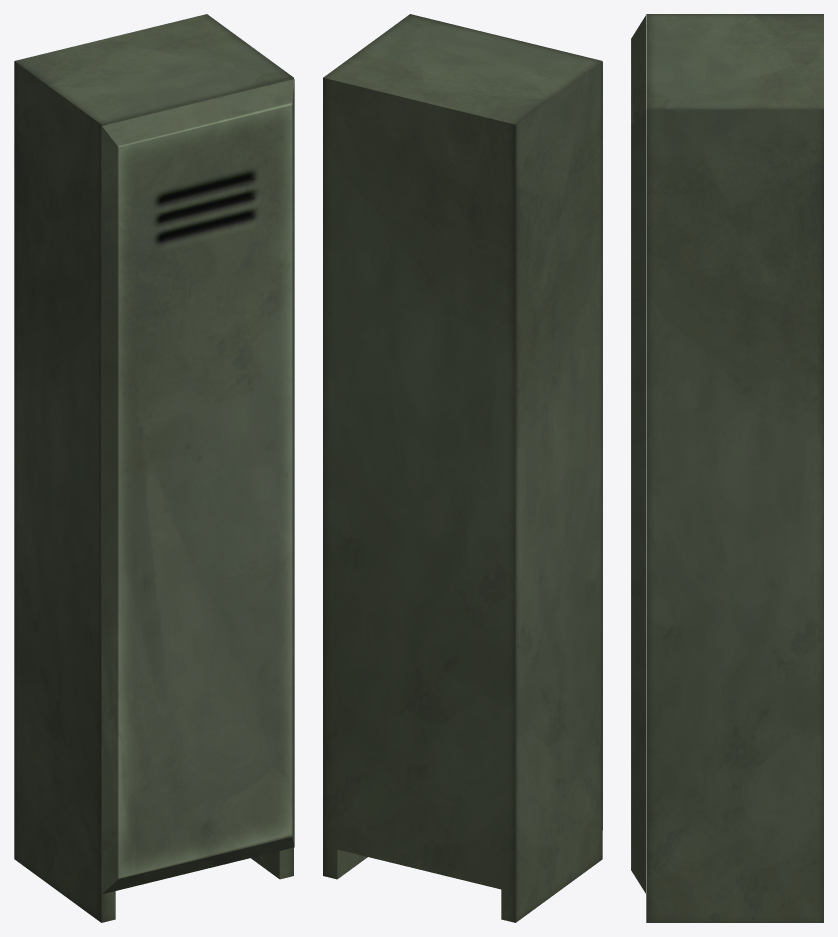
Rendered from Locker.fbx.
3 views of the same model, side by side, from view 1: azimuth 30°, elevation 25°; view 2: azimuth 150°, elevation 25°; view 3: azimuth 270°, elevation 25° (orthographic).
Visible parts, largest first — view 1: LockerDoor, Locker; view 2: Locker, LockerDoor; view 3: Locker, LockerDoor.
Boxes of the visible parts, x1,y1,x2,y2 form: LockerDoor: (102, 79, 294, 894); Locker: (14, 14, 293, 922); Locker: (323, 14, 602, 922); LockerDoor: (602, 62, 602, 829); Locker: (646, 14, 823, 922); LockerDoor: (631, 15, 645, 893).
Bounding box in the file's own units: 43.23 × 171 × 36.72.
